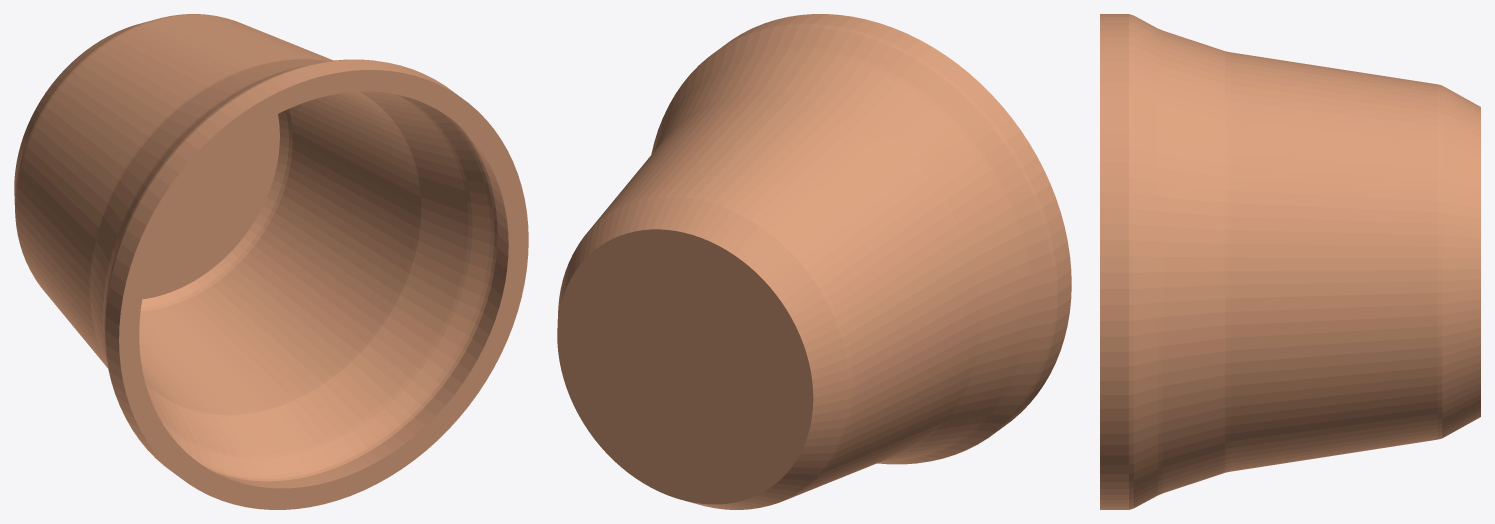
File: Pot_01_Classic_Herb.glb
The picture shows the model from 3 angles, left to right: view 1: azimuth 30°, elevation 25°; view 2: azimuth 150°, elevation 25°; view 3: azimuth 270°, elevation 25°; orthographic projection. The views are drawn at different scales.
Visible parts, largest first — view 1: Pot_01_Classic_Herb; view 2: Pot_01_Classic_Herb; view 3: Pot_01_Classic_Herb.
Boxes of the visible parts, x1,y1,x2,y2 form: Pot_01_Classic_Herb: [14, 14, 528, 509]; Pot_01_Classic_Herb: [557, 14, 1071, 509]; Pot_01_Classic_Herb: [1100, 14, 1480, 509].
Size of the model in its own units: 0.224 by 0.224 by 0.172.
